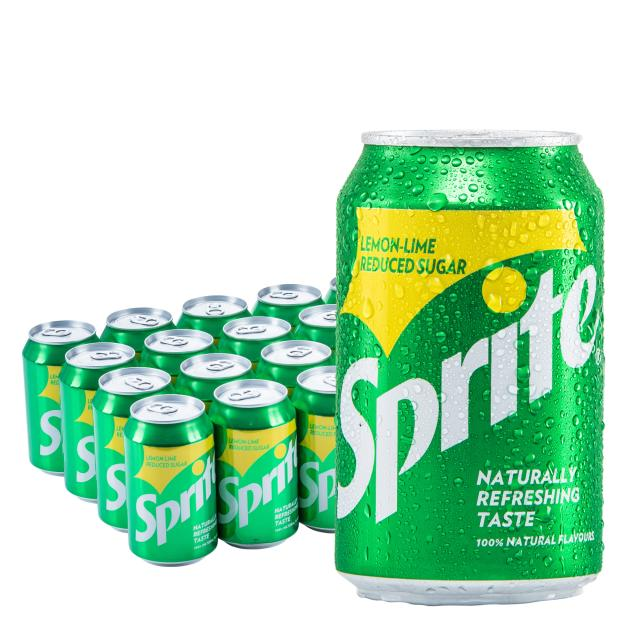sprite: (330, 123, 600, 610), (118, 399, 222, 568), (209, 377, 299, 550), (95, 367, 183, 531), (23, 313, 102, 480), (63, 339, 135, 493), (296, 367, 359, 536)
